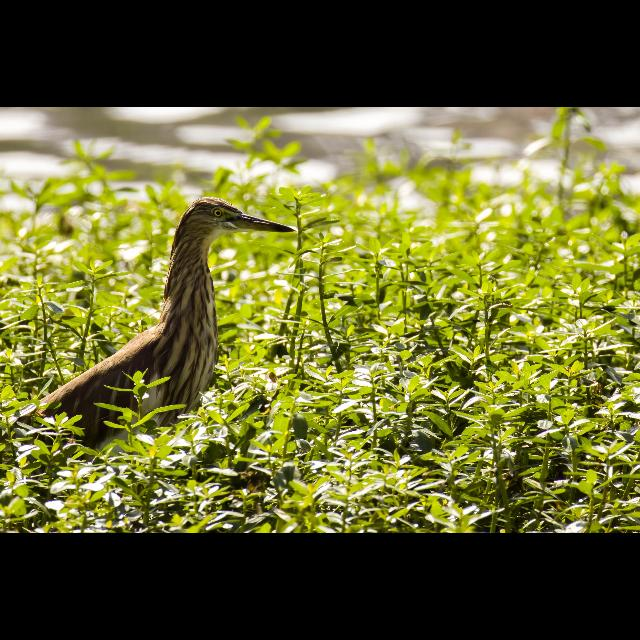heron: (44, 190, 300, 436)
